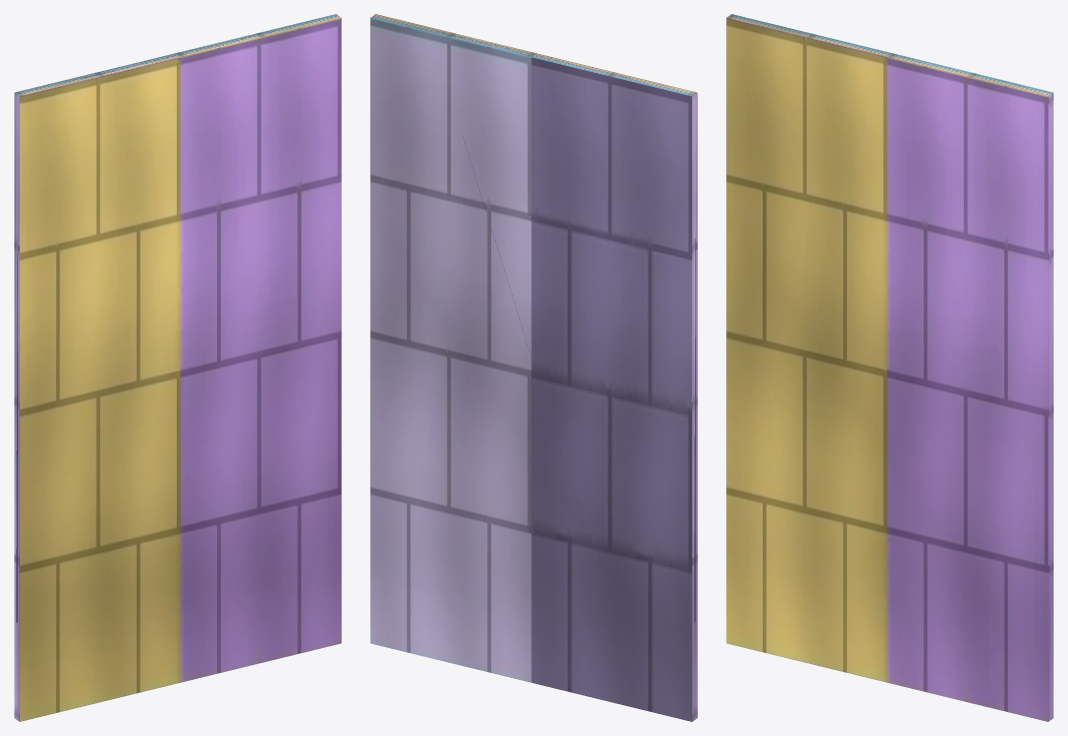
Rendered from banner.glb.
The picture shows the model from 3 angles, left to right: view 1: azimuth 30°, elevation 25°; view 2: azimuth 150°, elevation 25°; view 3: azimuth 330°, elevation 25°; orthographic projection.
Visible parts, largest first — view 1: col, lod0; view 2: col, lod0; view 3: col.
Part boxes in pixels (box(x1,y1,x2,y2)): col: box(14, 14, 341, 721); lod0: box(16, 31, 272, 622); col: box(370, 14, 697, 721); lod0: box(436, 31, 695, 623); col: box(726, 14, 1053, 721).
Size of the model in its own units: 1.04 by 1.92 by 0.03.
1 material, 1 textured.
